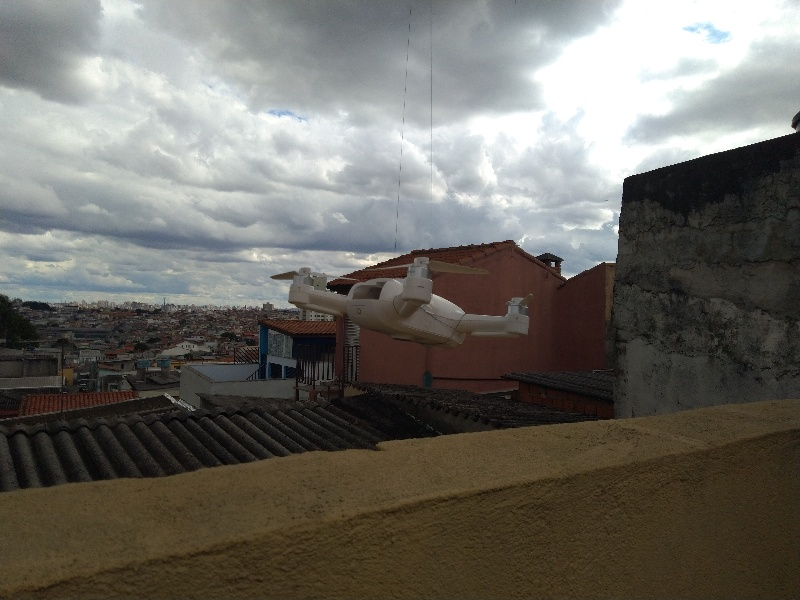drone: (266, 257, 543, 357)
